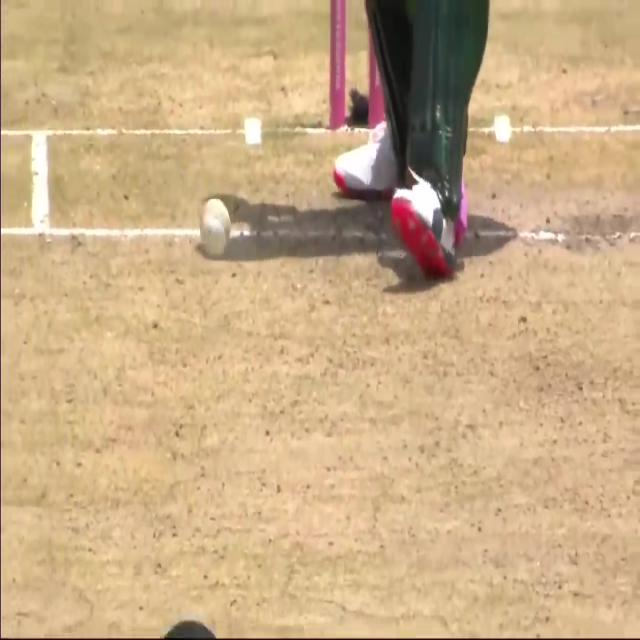Batsman: (192, 179, 240, 271)
